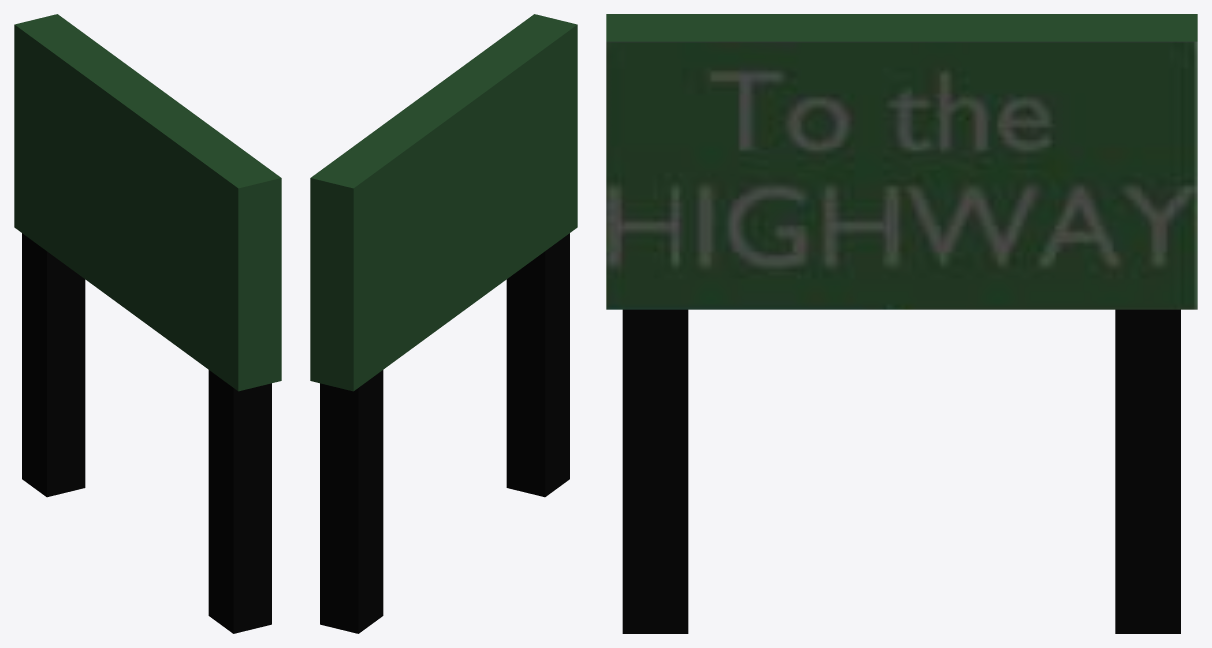
File: HighwaySign.fbx
3 views of the same model, side by side, from view 1: azimuth 30°, elevation 25°; view 2: azimuth 150°, elevation 25°; view 3: azimuth 270°, elevation 25° (orthographic). The views are drawn at different scales.
Parts seen in each view (by area): view 1: To the highway; view 2: To the highway; view 3: To the highway.
Part boxes in pixels (x1=…): To the highway: x1=14, y1=14, x2=281, y2=633; To the highway: x1=310, y1=14, x2=577, y2=633; To the highway: x1=606, y1=14, x2=1197, y2=633.
Bounding box in the file's own units: 200 × 1800 × 1997.
